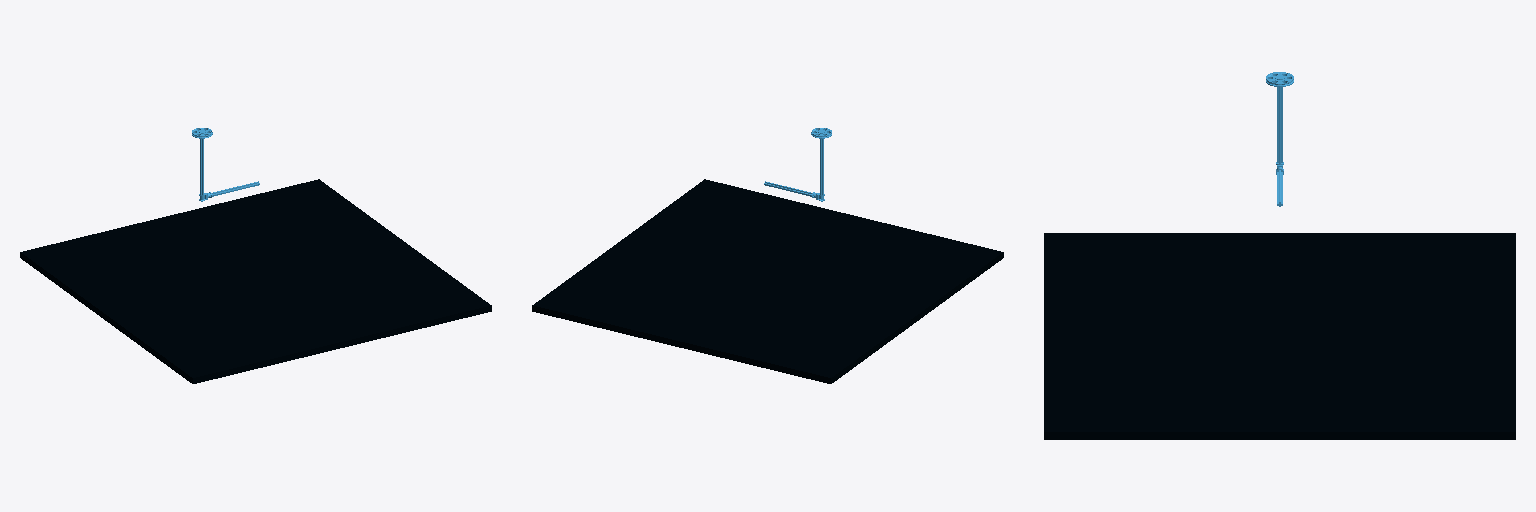
URDF robot description (robot_fancy_clock):
<?xml version="1.0"?>
<!--
  Robot: robot_fancy_clock
  Generated by: LinkForge v1.3.4
  https://github.com/arounamounchili/linkforge
  Date: 2026-06-12 16:52:02
-->
<robot name="robot_fancy_clock">
  <!-- Materials -->
  <material name="_0_001">
    <color rgba="0.01281 0.048622 0.075361 0.5" />
  </material>
  <!-- Links -->
  <link name="base">
    <inertial>
      <mass value="0.2522" />
      <inertia ixx="0.004595966" ixy="1.5908203e-05" ixz="-0.0001171288" iyy="0.003955696" iyz="2.9241957e-05" izz="0.0024333475" />
    </inertial>
    <visual>
      <origin xyz="0 0 0.182375" rpy="0 0 0" />
      <geometry>
        <mesh filename="meshes/base_visual.obj" />
      </geometry>
    </visual>
  </link>
  <link name="clock">
    <inertial>
      <mass value="0.0042" />
      <inertia ixx="2.9608782e-05" ixy="1.5979884e-11" ixz="1.0643271e-05" iyy="4.1455205e-05" iyz="-4.0351056e-11" izz="1.2443532e-05" />
    </inertial>
    <visual>
      <origin xyz="-0.1 -0.000002 0.412877" rpy="0 0 0" />
      <geometry>
        <mesh filename="meshes/clock_visual.obj" />
      </geometry>
    </visual>
  </link>
  <link name="world">
    <inertial>
      <mass value="100" />
      <inertia ixx="8.336667" ixy="0" ixz="0" iyy="8.336667" iyz="0" izz="16.666667" />
    </inertial>
    <visual>
      <geometry>
        <box size="1 1 0.02" />
      </geometry>
      <material name="_0_001" />
    </visual>
  </link>
  <!-- Joints -->
  <joint name="base_joint" type="floating">
    <parent link="world" />
    <child link="base" />
  </joint>
  <joint name="clock_joint" type="revolute">
    <parent link="base" />
    <child link="clock" />
    <axis xyz="1 0 0" />
    <limit effort="10" velocity="1" lower="-3.141593" upper="3.141593" />
  </joint>
</robot>

--- Render facts (derived) ---
3 views of the same robot in one strip: view 1: azimuth 30°, elevation 25°; view 2: azimuth 150°, elevation 25°; view 3: azimuth 270°, elevation 25° (orthographic).
Model robot_fancy_clock with 3 links and 2 joints (1 revolute, 1 floating), rooted at world, posed every joint at zero.
Links seen in each view (by area): view 1: world, clock; view 2: world, clock; view 3: world, clock.
Link boxes in pixels (<box>): world: <box>20,179,491,383</box>; clock: <box>192,128,259,201</box>; world: <box>532,179,1003,383</box>; clock: <box>764,128,831,201</box>; world: <box>1044,233,1515,439</box>; clock: <box>1266,72,1293,206</box>.
Bounding box of the posed robot: 1 × 1 × 0.5329 m (x, y, z).
1 mesh visuals loaded from 2 distinct referenced files (1 OBJ); not drawn: 1 (reference not matched to a file when rendering).
